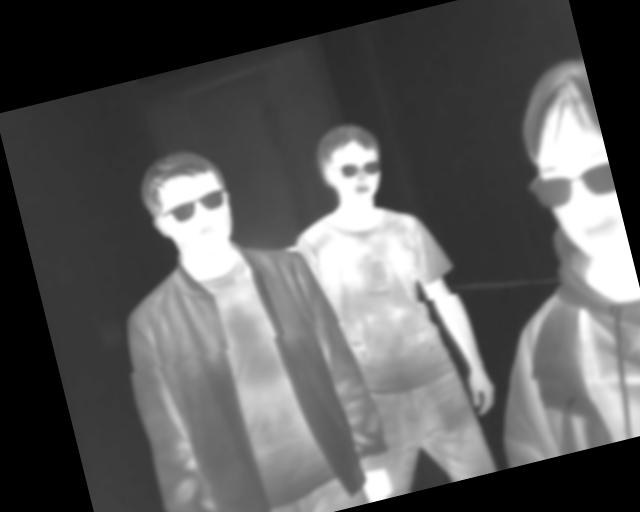face: (506, 55, 629, 268), (133, 141, 244, 271), (308, 115, 394, 217)
